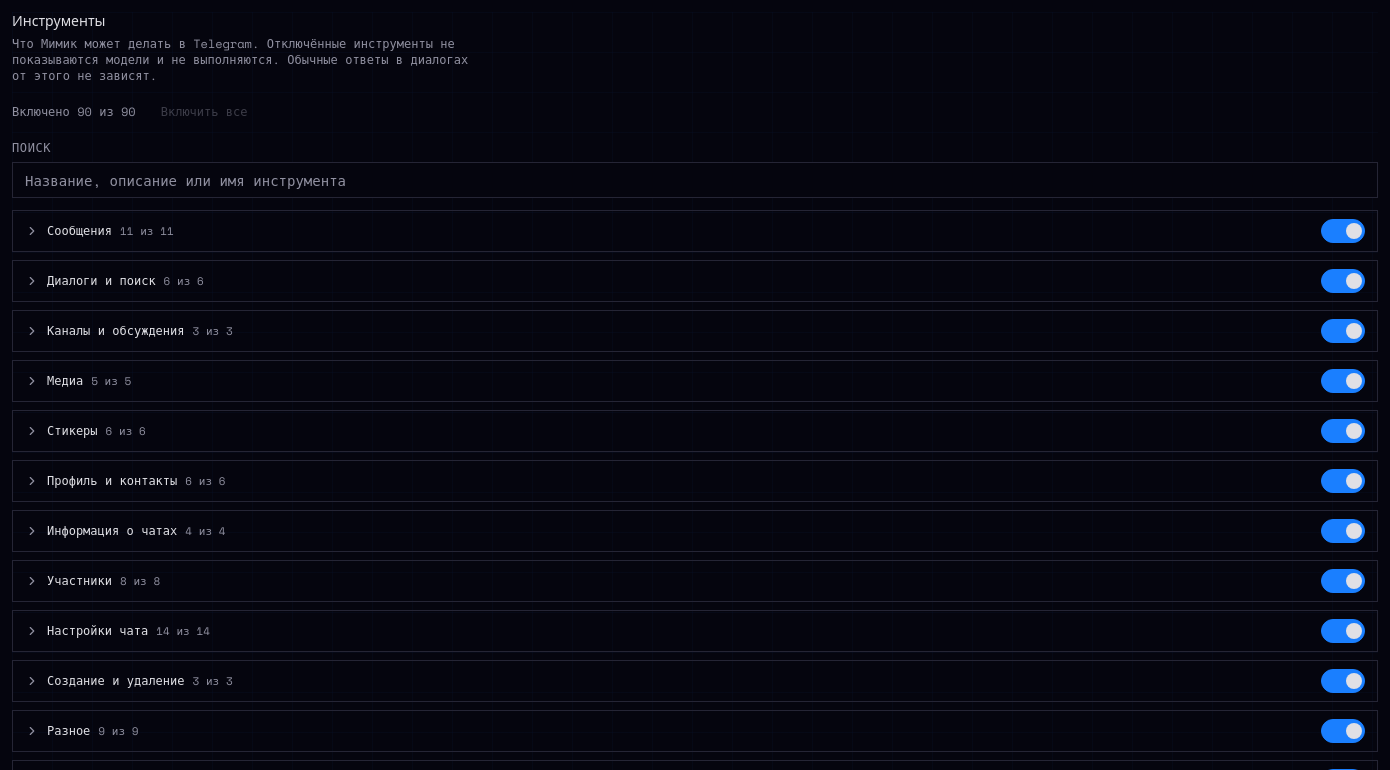
Test: ToolsSettings › поиск находит по названию и раскрывает группы
Type "Удаление канала" into the field labelled "Поиск" at (695, 180), box [12,162,1378,198]
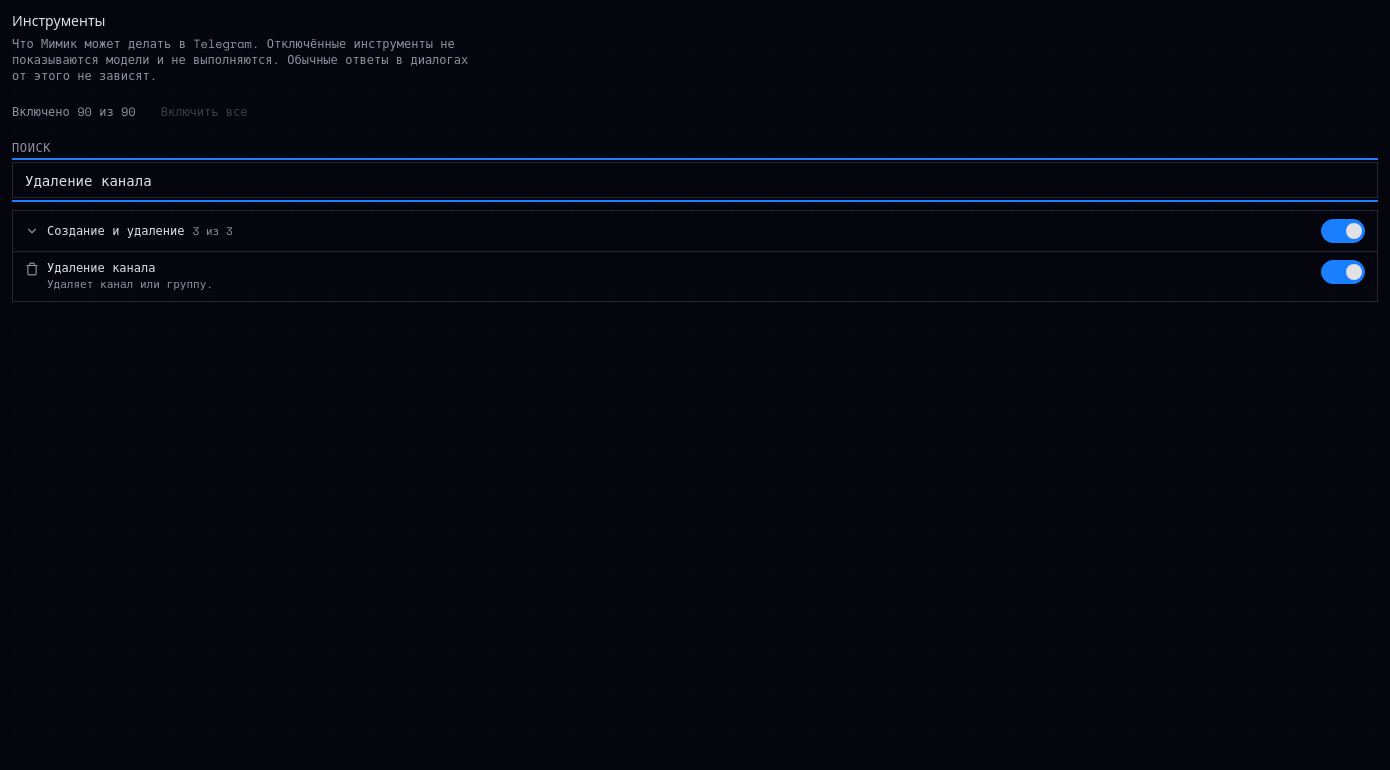
Result: the switch named "Удаление канала" is shown at [1321,260,1365,284]
